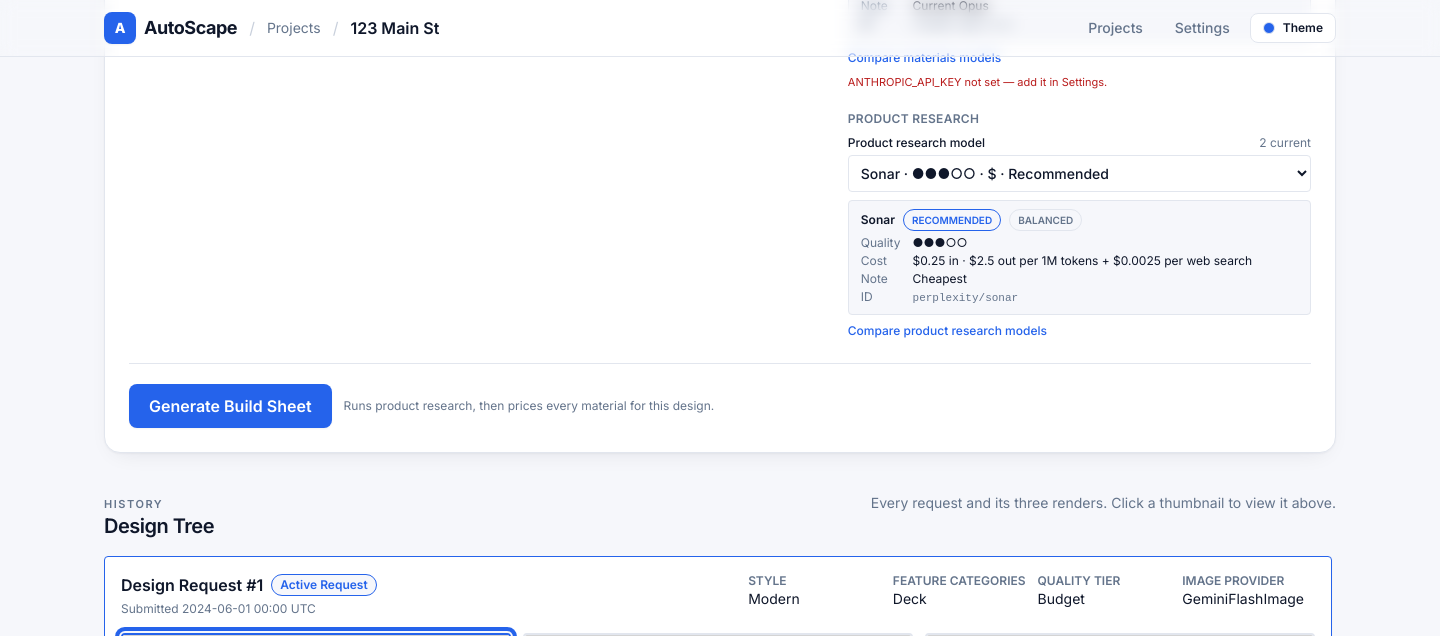
ProjectDetailPage — Project Dimensions section › surfaces 400 detail message on failed build sheet generation
(page scrolled)
Step 1. Click the button "Generate Build Sheet" → (230,406), box [129,384,332,428]
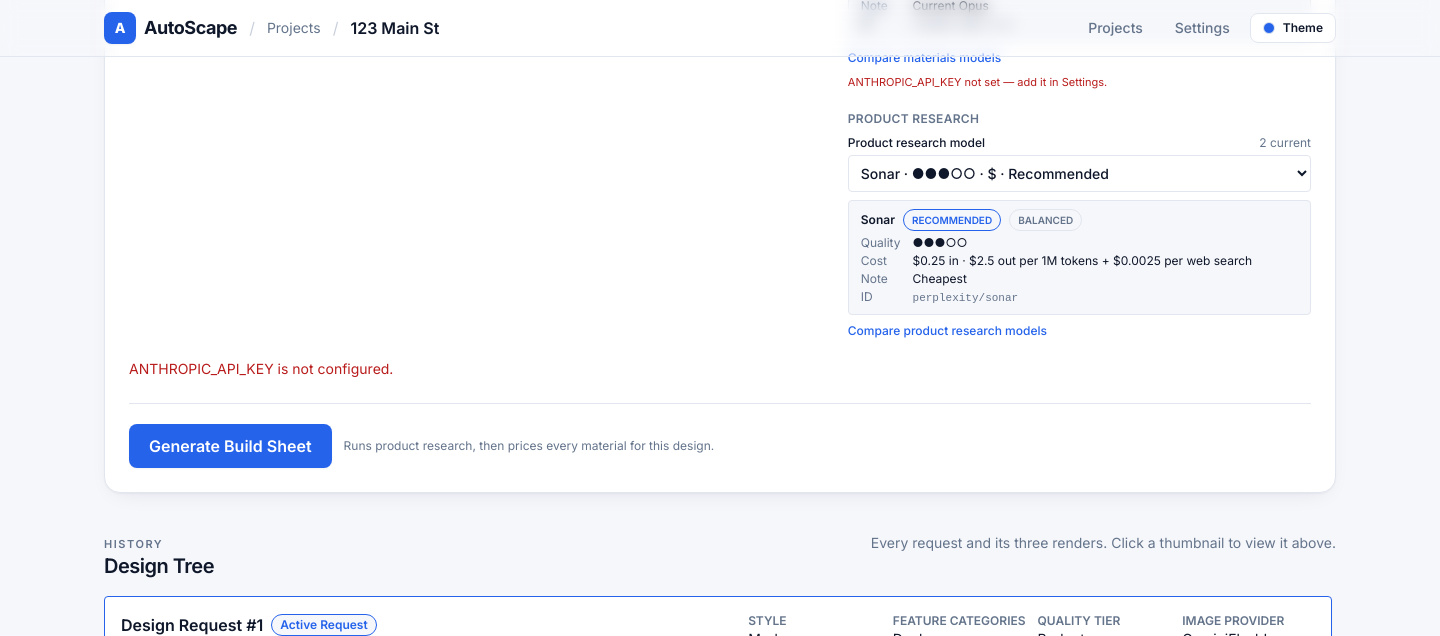
expect the text "ANTHROPIC_API_KEY is not configured." is shown: met, box [129,360,393,376]
